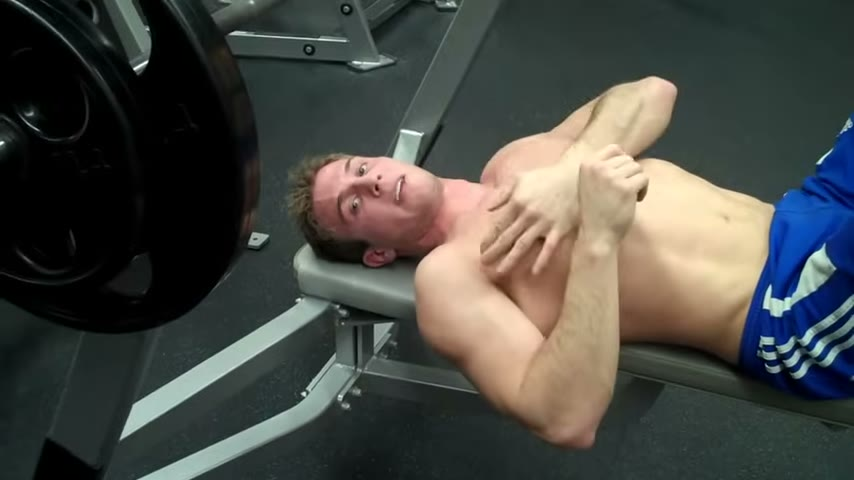barbell_plate_side: (118, 0, 282, 480)
